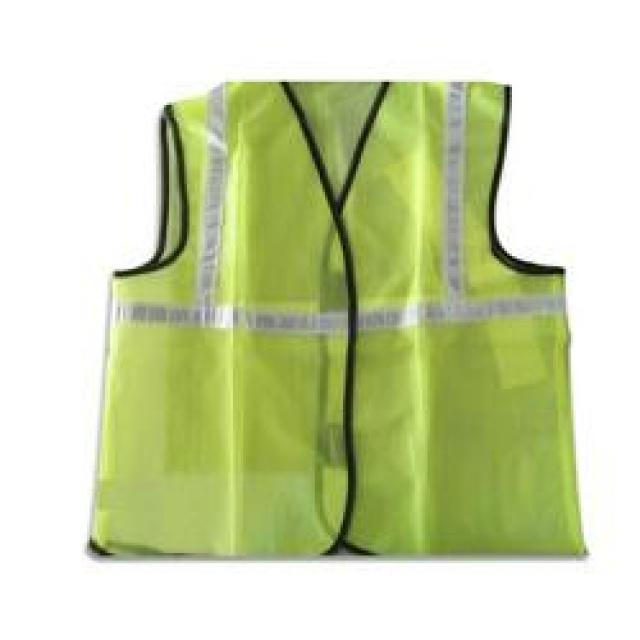Reflective-Jacket: (43, 51, 617, 576)
